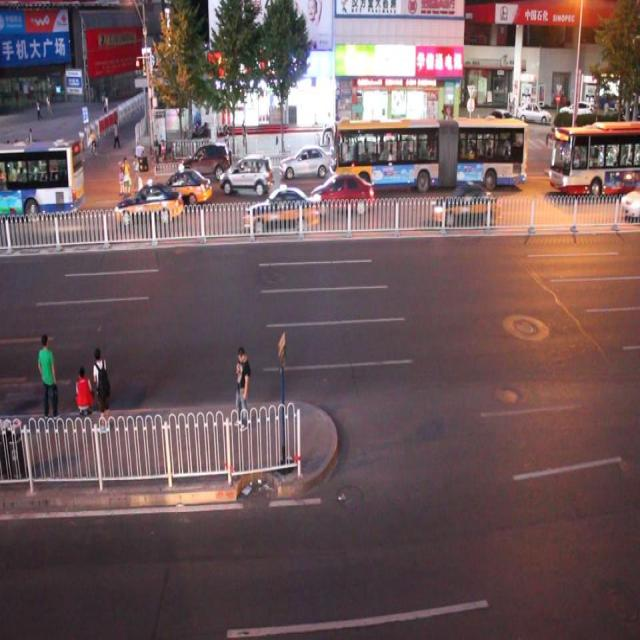car: (245, 188, 318, 229), (114, 181, 182, 222), (430, 184, 496, 225), (311, 173, 373, 213), (156, 167, 212, 206), (220, 153, 272, 194), (180, 142, 231, 180), (280, 144, 330, 178), (17, 171, 55, 202), (619, 180, 640, 221), (1, 162, 14, 198)
van: (331, 117, 526, 192), (548, 122, 640, 196), (1, 142, 85, 218)
